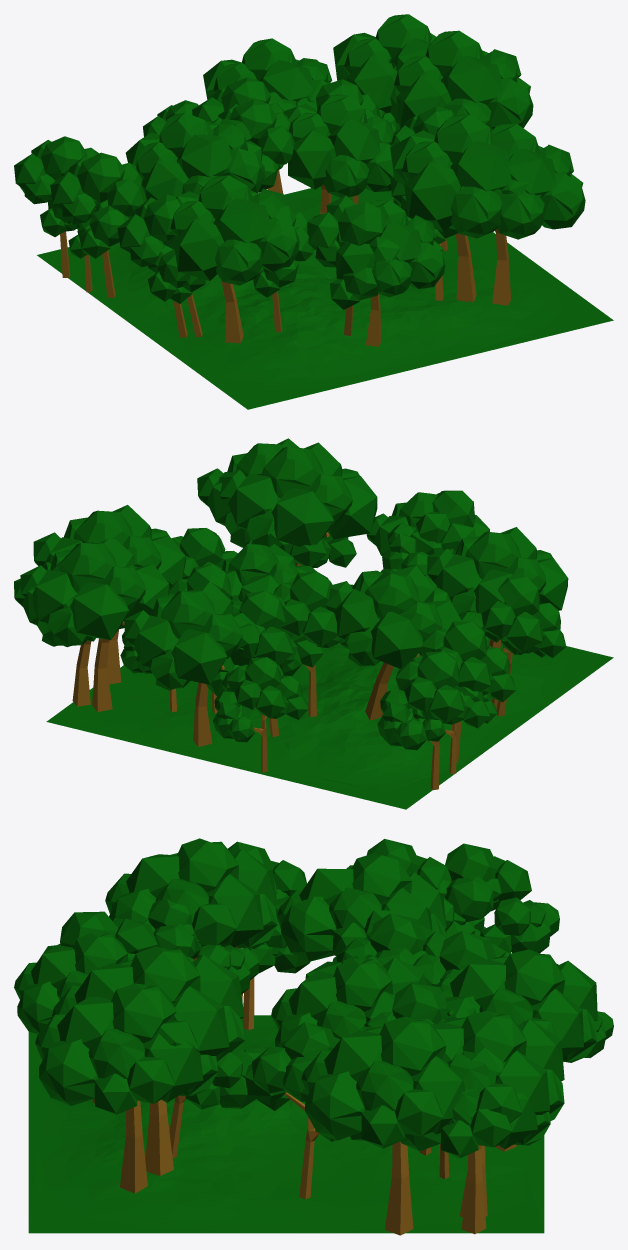
Rendered from Forest.fbx.
3 views of the same model, one above another, from view 1: azimuth 30°, elevation 25°; view 2: azimuth 150°, elevation 25°; view 3: azimuth 270°, elevation 25° (orthographic). The views are drawn at different scales.
Visible parts, largest first — view 1: Leaves.002, Landscape.002, Trunk.001; view 2: Leaves.002, Trunk.001, Landscape.002; view 3: Leaves.002, Landscape.002, Trunk.001.
Part boxes in pixels (x1,y1,x2,y2): Leaves.002: (125,14,585,346); Landscape.002: (37,186,613,409); Trunk.001: (14,77,457,337); Leaves.002: (14,438,568,746); Trunk.001: (120,490,566,790); Landscape.002: (46,638,613,809); Leaves.002: (14,838,597,1235); Landscape.002: (28,1015,544,1233); Trunk.001: (42,839,613,1199).
Size of the model in its own units: 256 by 98.16 by 233.
